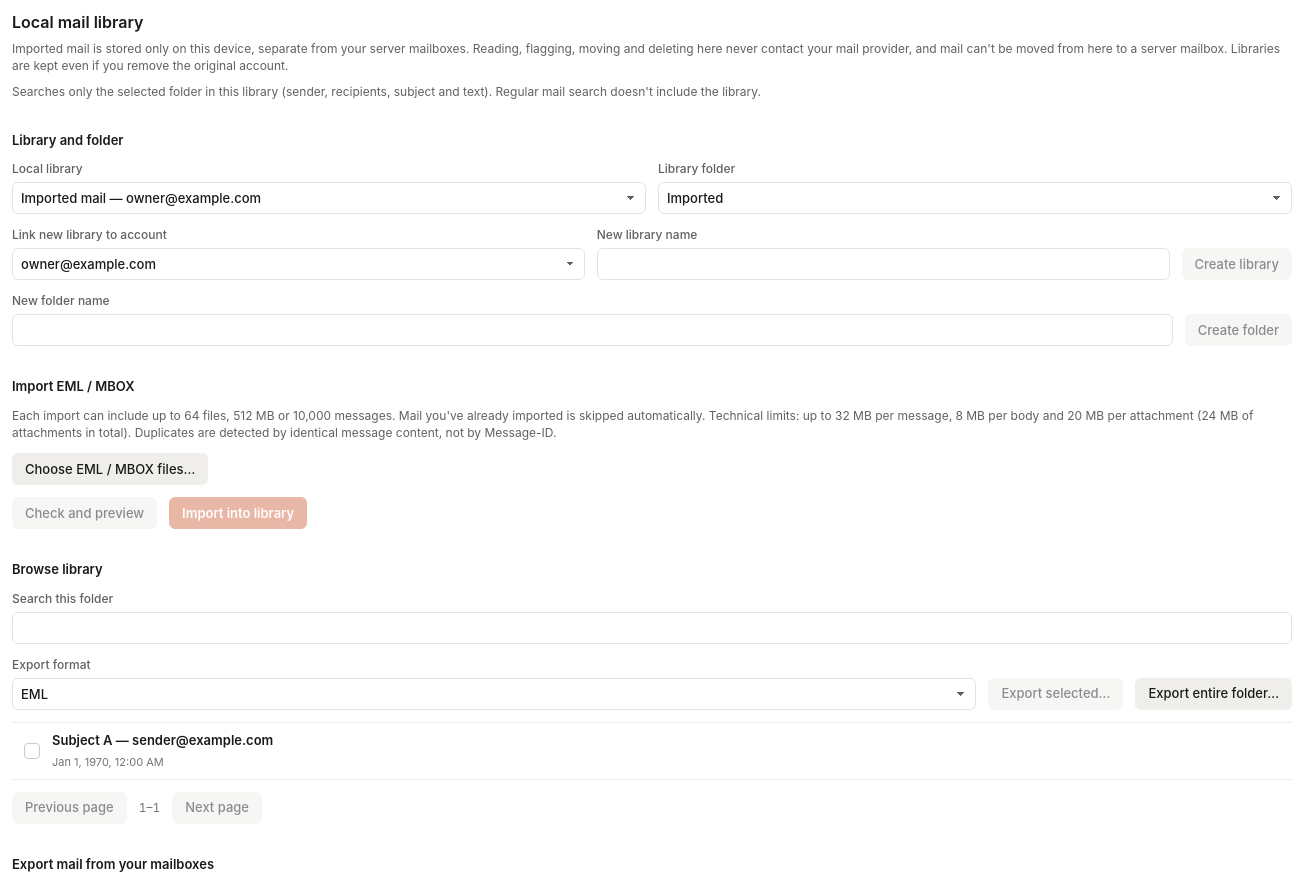
Test: Local mail archive browser › states local-only/search boundaries and renders untrusted mail strictly as text
Later steps or results of the test are not shown.
expect the text "Imported mail is stored only on this device, separate from your server mailboxes. Reading, flagging, moving and deleting" is shown: met, box left=12, top=41, right=1280, bottom=73
expect the text "Searches only the selected folder in this library (sender, recipients, subject and text). Regular mail search doesn't in" is shown: met, box left=12, top=84, right=761, bottom=99
Click the button "Subject A — sender@example.com Jan 1, 1970, 12:00 AM" at (82, 740), box left=52, top=723, right=1292, bottom=779
(page scrolled)
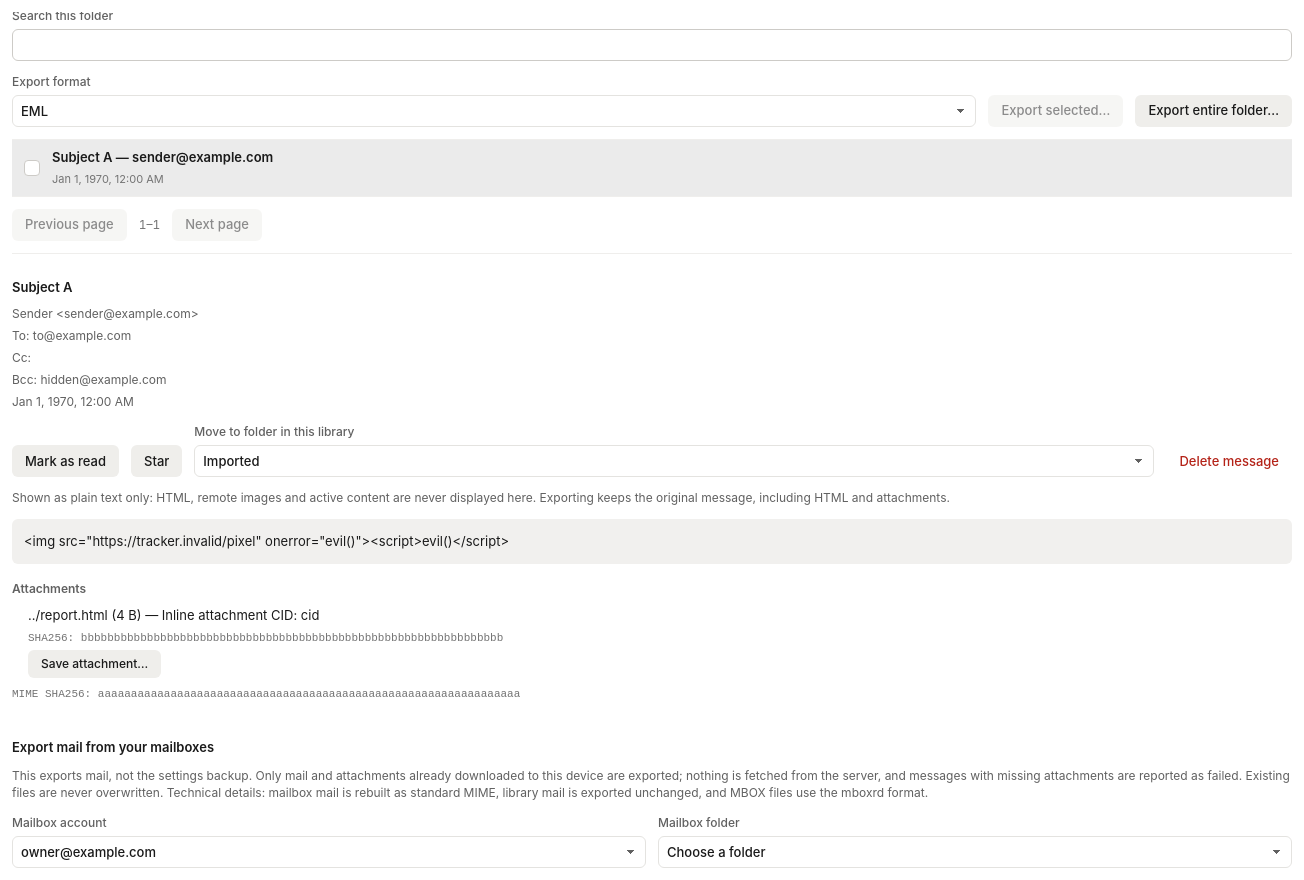
expect the text "<img src=" is shown: met, box left=24, top=533, right=509, bottom=549
expect the text "Bcc: hidden@example.com" is shown: met, box left=12, top=372, right=167, bottom=387
